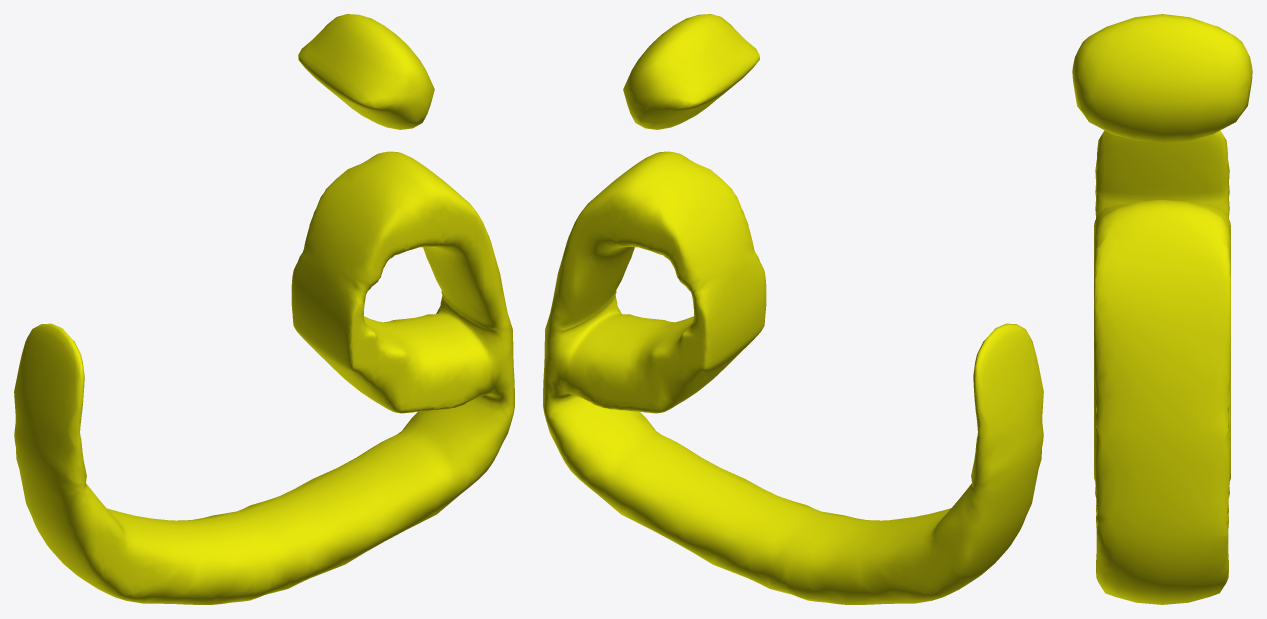
3 views of the same model, side by side, from view 1: azimuth 30°, elevation 25°; view 2: azimuth 150°, elevation 25°; view 3: azimuth 270°, elevation 25° (orthographic). The views are drawn at different scales.
Parts seen in each view (by area): view 1: char_1; view 2: char_1; view 3: char_1.
Part boxes in pixels (x1,y1,x2,y2): char_1: (14,14,514,604); char_1: (543,14,1043,604); char_1: (1072,14,1252,604).
Bounding box in the file's own units: 5.57 × 6.16 × 1.64.
